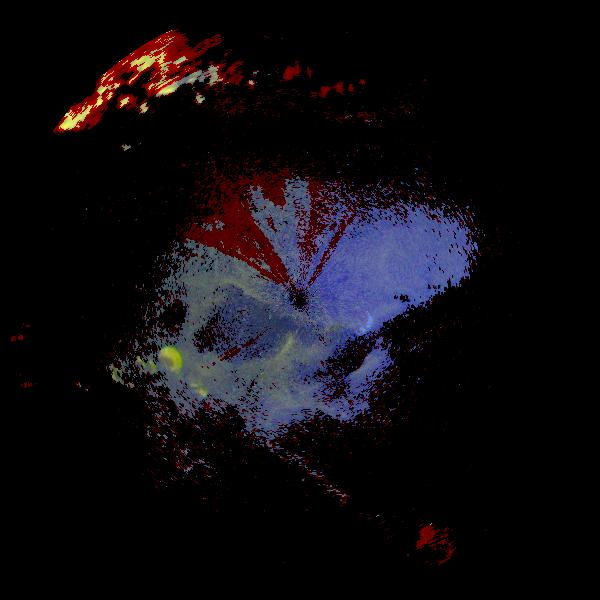roost: (137, 336, 194, 393)
